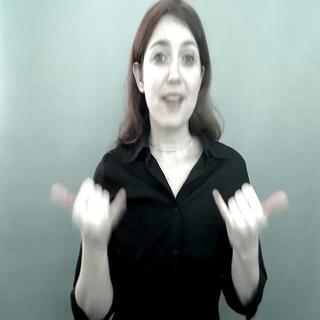now: (46, 171, 294, 244)
